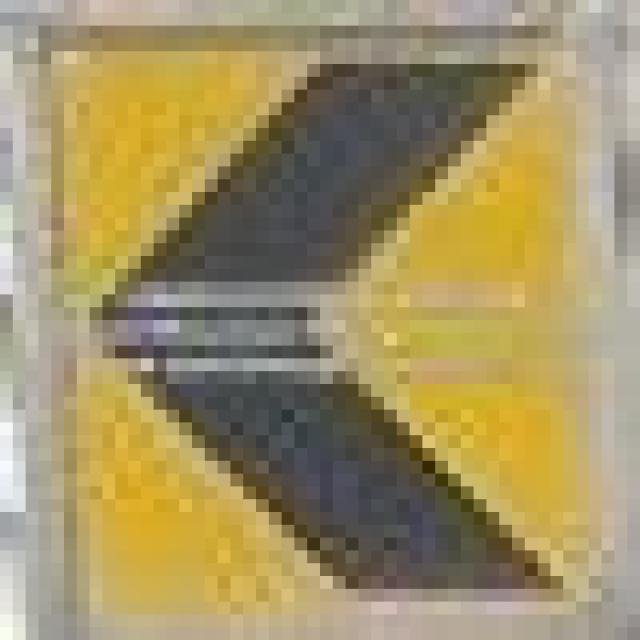direction: (38, 26, 589, 627)
